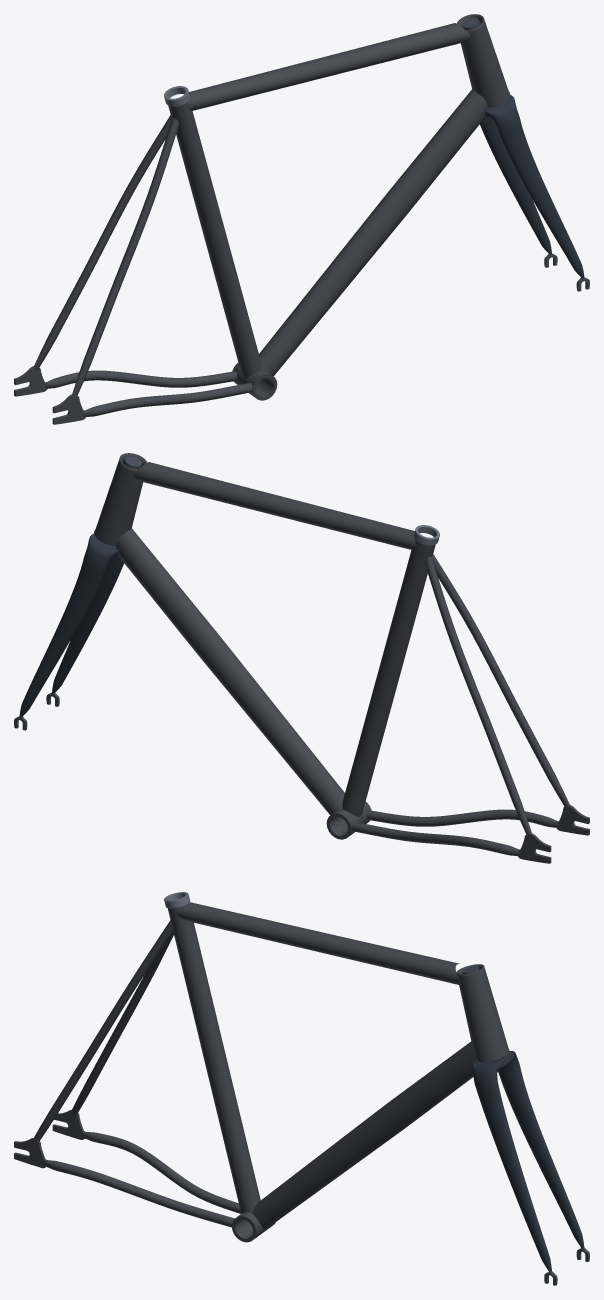
The model's file is skream-magnum-m.glb.
The picture shows the model from 3 angles, top to bottom: view 1: azimuth 30°, elevation 25°; view 2: azimuth 150°, elevation 25°; view 3: azimuth 330°, elevation 25°; orthographic projection.
Visible parts, largest first — view 1: paint_down, paint_seat, paint_top, fork_blade_1, paint_seatstay_1, paint_head, paint_seatstay_-1, fork_blade_-1, paint_chainstay_-1, paint_chainstay_1, paint_bottom_bracket, fork_crown (+2 smaller); view 2: paint_down, paint_seat, paint_top, fork_blade_-1, paint_seatstay_-1, paint_head, paint_seatstay_1, fork_blade_1, paint_chainstay_1, paint_chainstay_-1, paint_bottom_bracket, fork_crown (+2 smaller); view 3: paint_down, paint_seat, paint_top, fork_blade_1, paint_head, fork_blade_-1, paint_seatstay_1, paint_chainstay_1, paint_chainstay_-1, paint_seatstay_-1, fork_crown, paint_bottom_bracket (+2 smaller).
Part boxes in pixels (x1,y1,x2,y2): paint_down: (259,89,487,376); paint_seat: (168,101,261,377); paint_top: (187,23,470,110); fork_blade_1: (497,118,584,278); paint_seatstay_1: (72,117,178,395); paint_head: (456,14,509,107); paint_seatstay_-1: (33,115,172,369); fork_blade_-1: (480,116,551,254); paint_chainstay_-1: (44,370,236,388); paint_chainstay_1: (83,382,252,416); paint_bottom_bracket: (232,363,277,400); fork_crown: (485,94,519,128); paint_down: (116,528,344,815); paint_seat: (342,540,435,816); paint_top: (133,462,416,549); fork_blade_-1: (19,557,106,717); paint_seatstay_-1: (425,556,531,834); paint_head: (94,453,147,546); paint_seatstay_1: (431,554,570,808); fork_blade_1: (52,555,123,693); paint_chainstay_1: (367,809,559,827); paint_chainstay_-1: (351,821,520,855); paint_bottom_bracket: (326,801,371,839); fork_crown: (84,533,118,567); paint_down: (252,1041,475,1229); paint_seat: (167,906,260,1213); paint_top: (177,902,459,984); fork_blade_1: (475,1081,551,1272); paint_head: (456,964,509,1061); fork_blade_-1: (498,1065,584,1248); paint_seatstay_1: (33,920,172,1141); paint_chainstay_1: (43,1160,234,1227); paint_chainstay_-1: (81,1131,241,1213); paint_seatstay_-1: (72,931,173,1114); fork_crown: (471,1051,519,1084); paint_bottom_bracket: (231,1212,275,1242).
Size of the model in its own units: 1.01 by 0.5754 by 0.1441.
